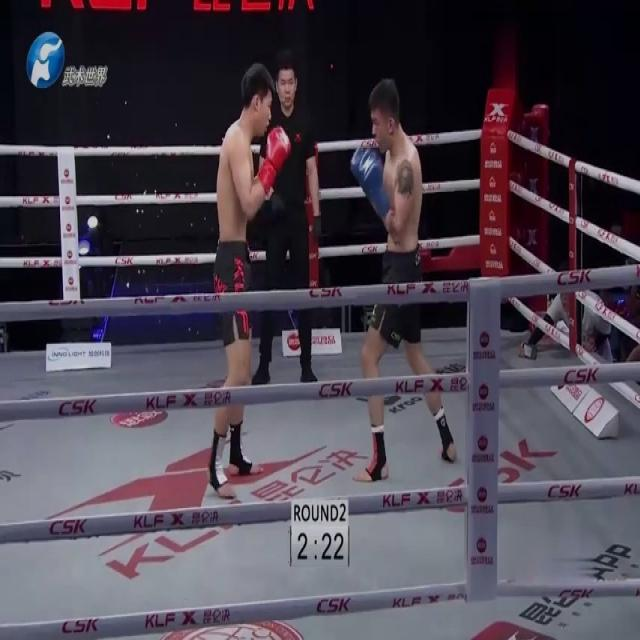fight: (208, 60, 456, 500)
non-fight: (255, 51, 322, 385), (520, 258, 621, 366)
